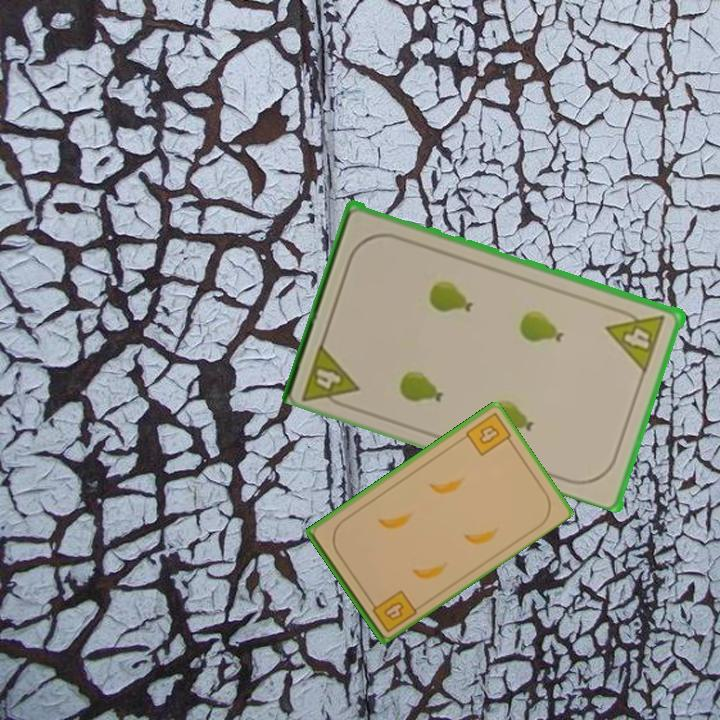4b: (462, 409, 516, 459), (365, 586, 419, 635)
4p: (298, 337, 363, 413), (604, 303, 668, 374)
